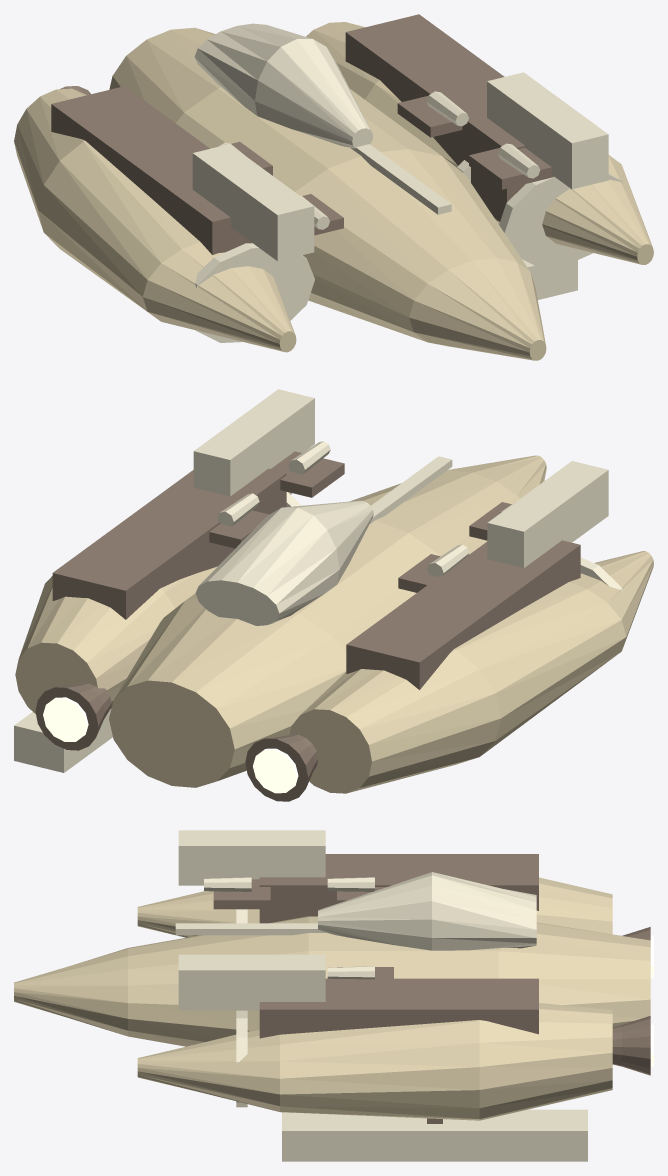
3 renders of one model, top to bottom at view 1: azimuth 30°, elevation 25°; view 2: azimuth 150°, elevation 25°; view 3: azimuth 270°, elevation 25°, orthographic. The views are drawn at different scales.
Bounding box in the file's own units: 13.17 × 6.13 × 17.41.
